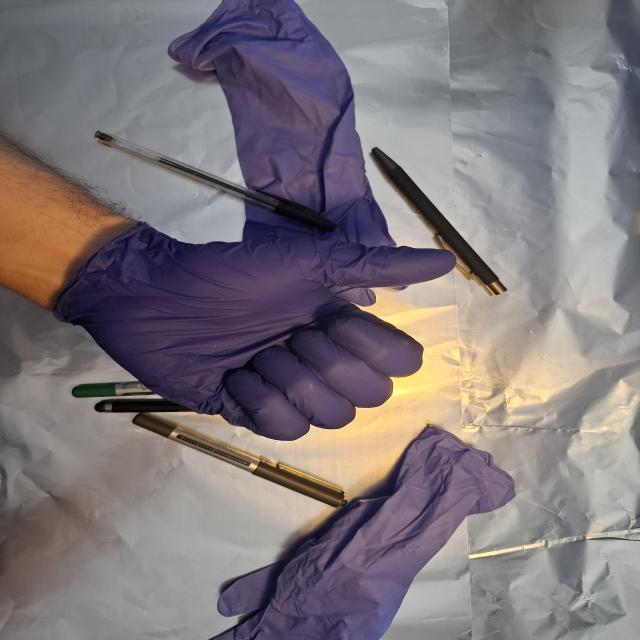glove_on: (54, 227, 463, 445)
